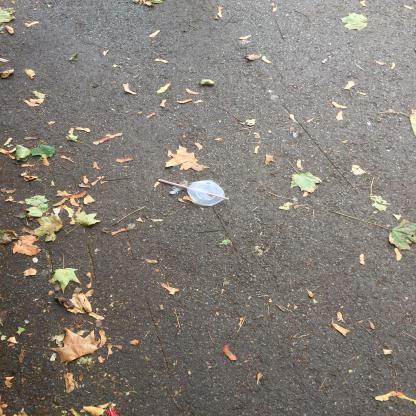plastik: (158, 178, 230, 206)
